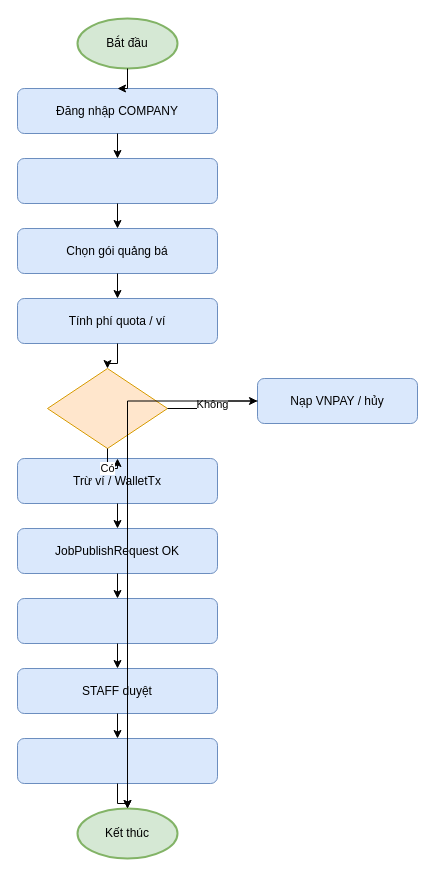
Image size: 435x876. Some labels were removed from this diagram. The shapes that lost their labels are listed below. From the top down, each one's centre as x and y in pixels, then its label:
At (117,181): "Tạo tin DRAFT".
At (107,408): "Ví đủ?".
At (117,621): "Tin PENDING".
At (117,761): "Hiển thị /viec-lam".
